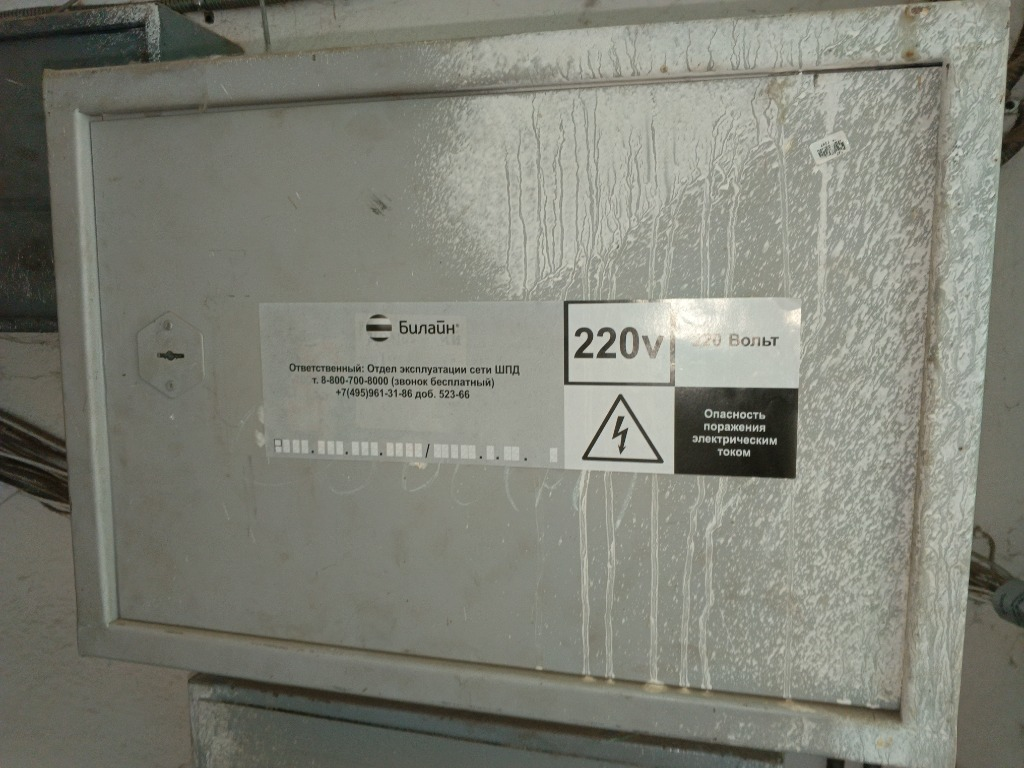e2-6u: (34, 4, 1009, 766)
